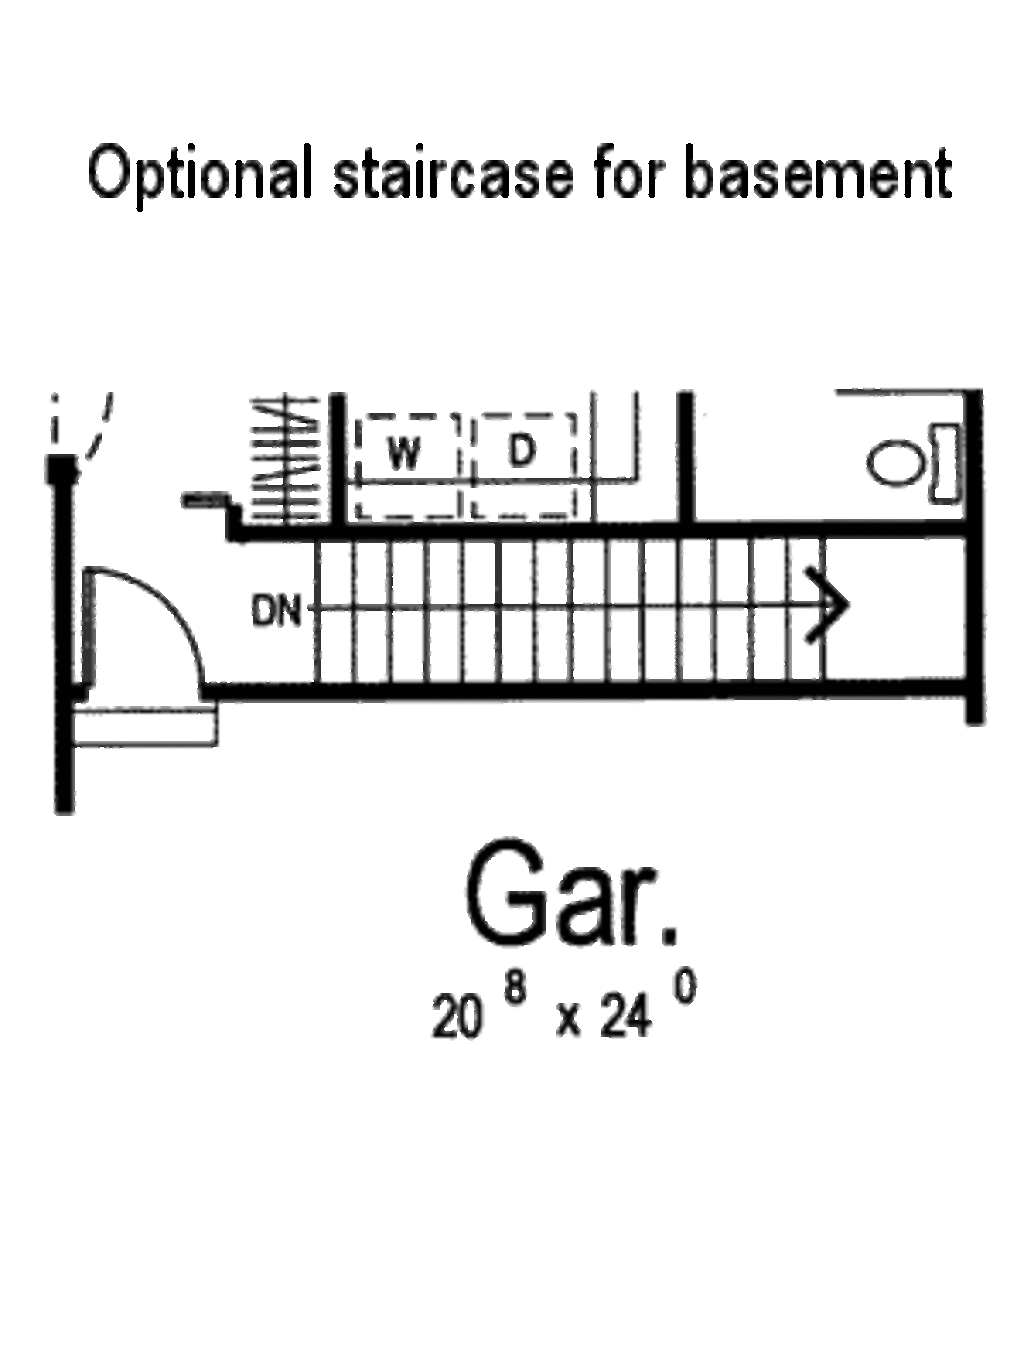door: (61, 552, 228, 765)
large_sink: (844, 411, 967, 507)
stairs: (269, 534, 918, 700)
